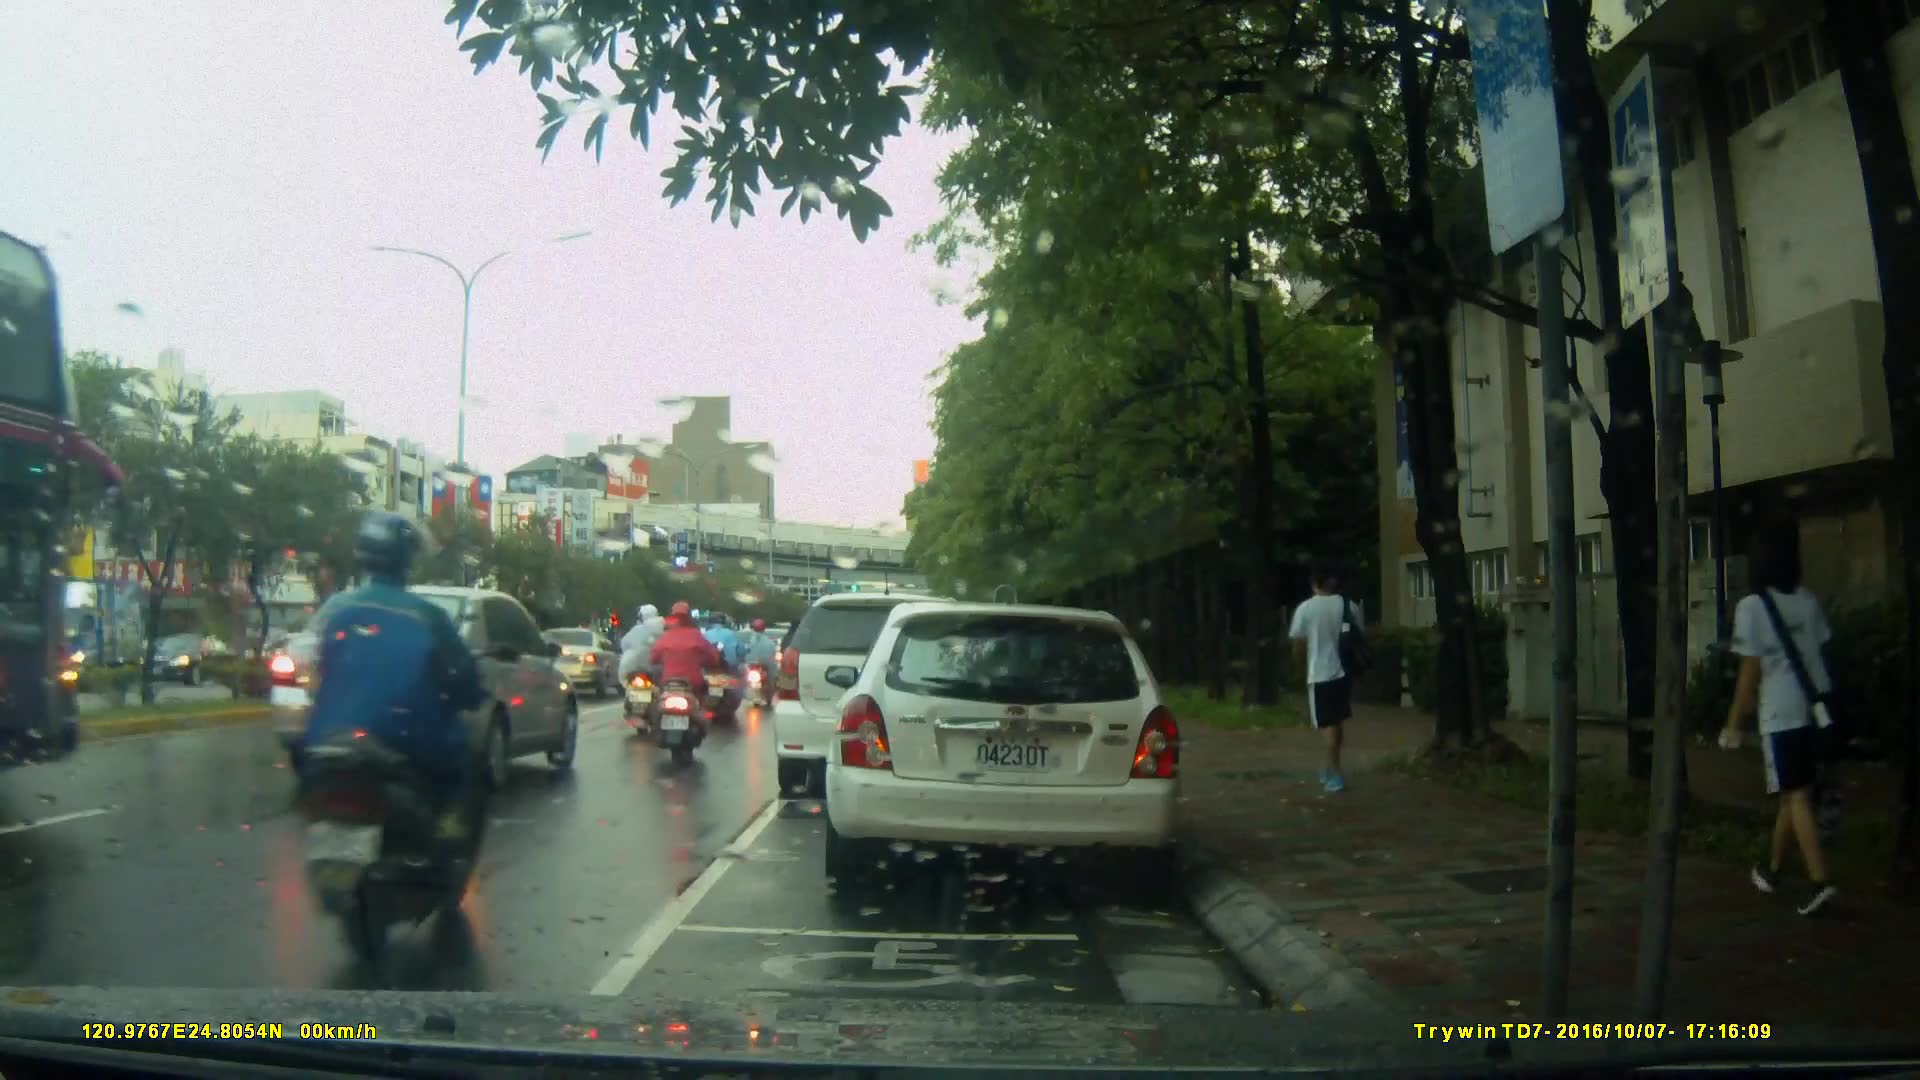pedestrian: (1720, 513, 1839, 923), (1292, 549, 1395, 814)
rider: (295, 511, 495, 968), (642, 603, 716, 772), (621, 603, 674, 741), (698, 610, 752, 722), (744, 615, 781, 712)
vehicle: (822, 604, 1188, 882), (268, 583, 582, 794), (774, 595, 995, 802), (523, 625, 629, 701), (144, 630, 241, 686)
